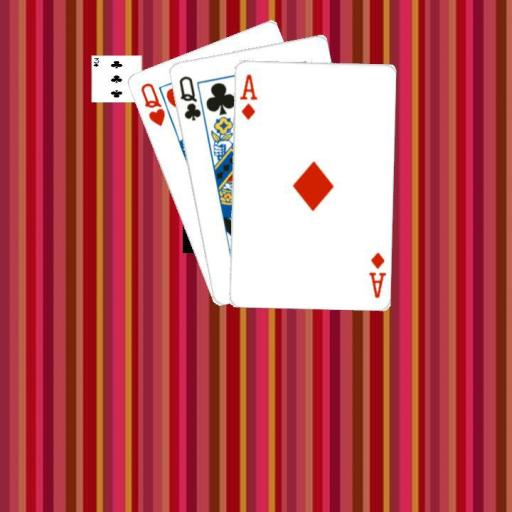AD: (236, 71, 258, 121), (365, 249, 386, 299)
QC: (175, 73, 202, 123)
QH: (137, 79, 167, 128)
